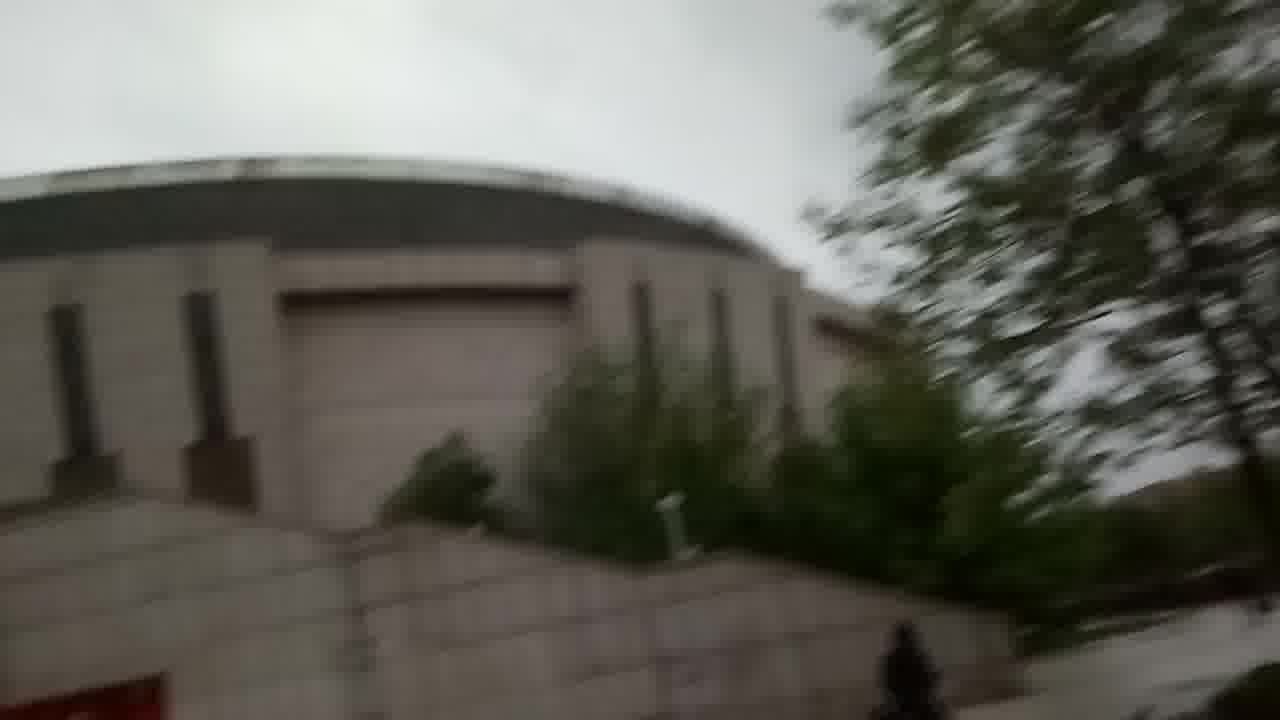zhongtiww: (3, 145, 1011, 720)
